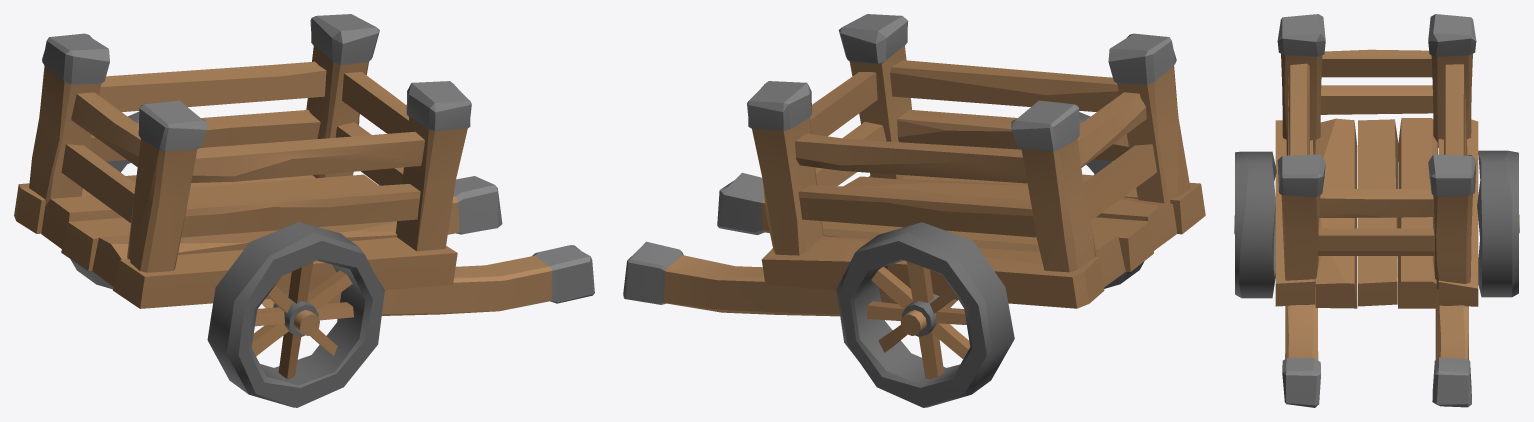
File: Wagon_B.fbx
3 views of the same model, side by side, from view 1: azimuth 30°, elevation 25°; view 2: azimuth 150°, elevation 25°; view 3: azimuth 270°, elevation 25° (orthographic). The views are drawn at different scales.
Visible parts, largest first — view 1: Wagon_B; view 2: Wagon_B; view 3: Wagon_B.
Boxes of the visible parts, x1,y1,x2,y2 form: Wagon_B: [14, 14, 594, 407]; Wagon_B: [623, 14, 1205, 407]; Wagon_B: [1234, 14, 1519, 407].
Size of the model in its own units: 252 by 150 by 167.
